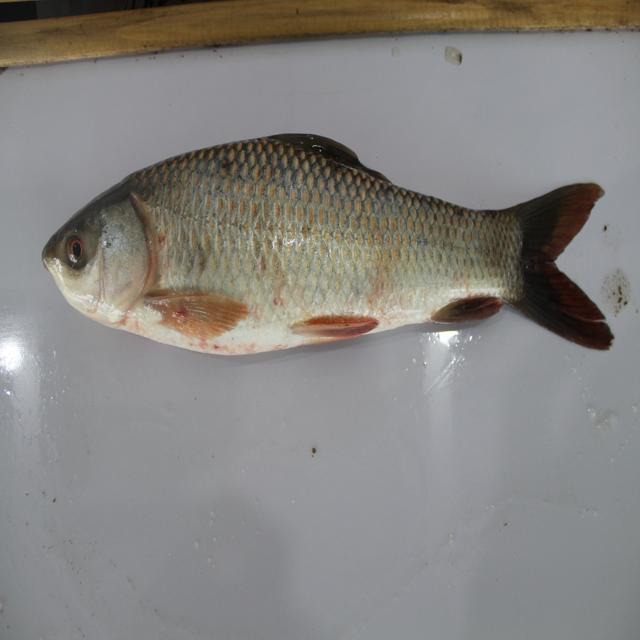Rohu: (36, 132, 616, 368)
